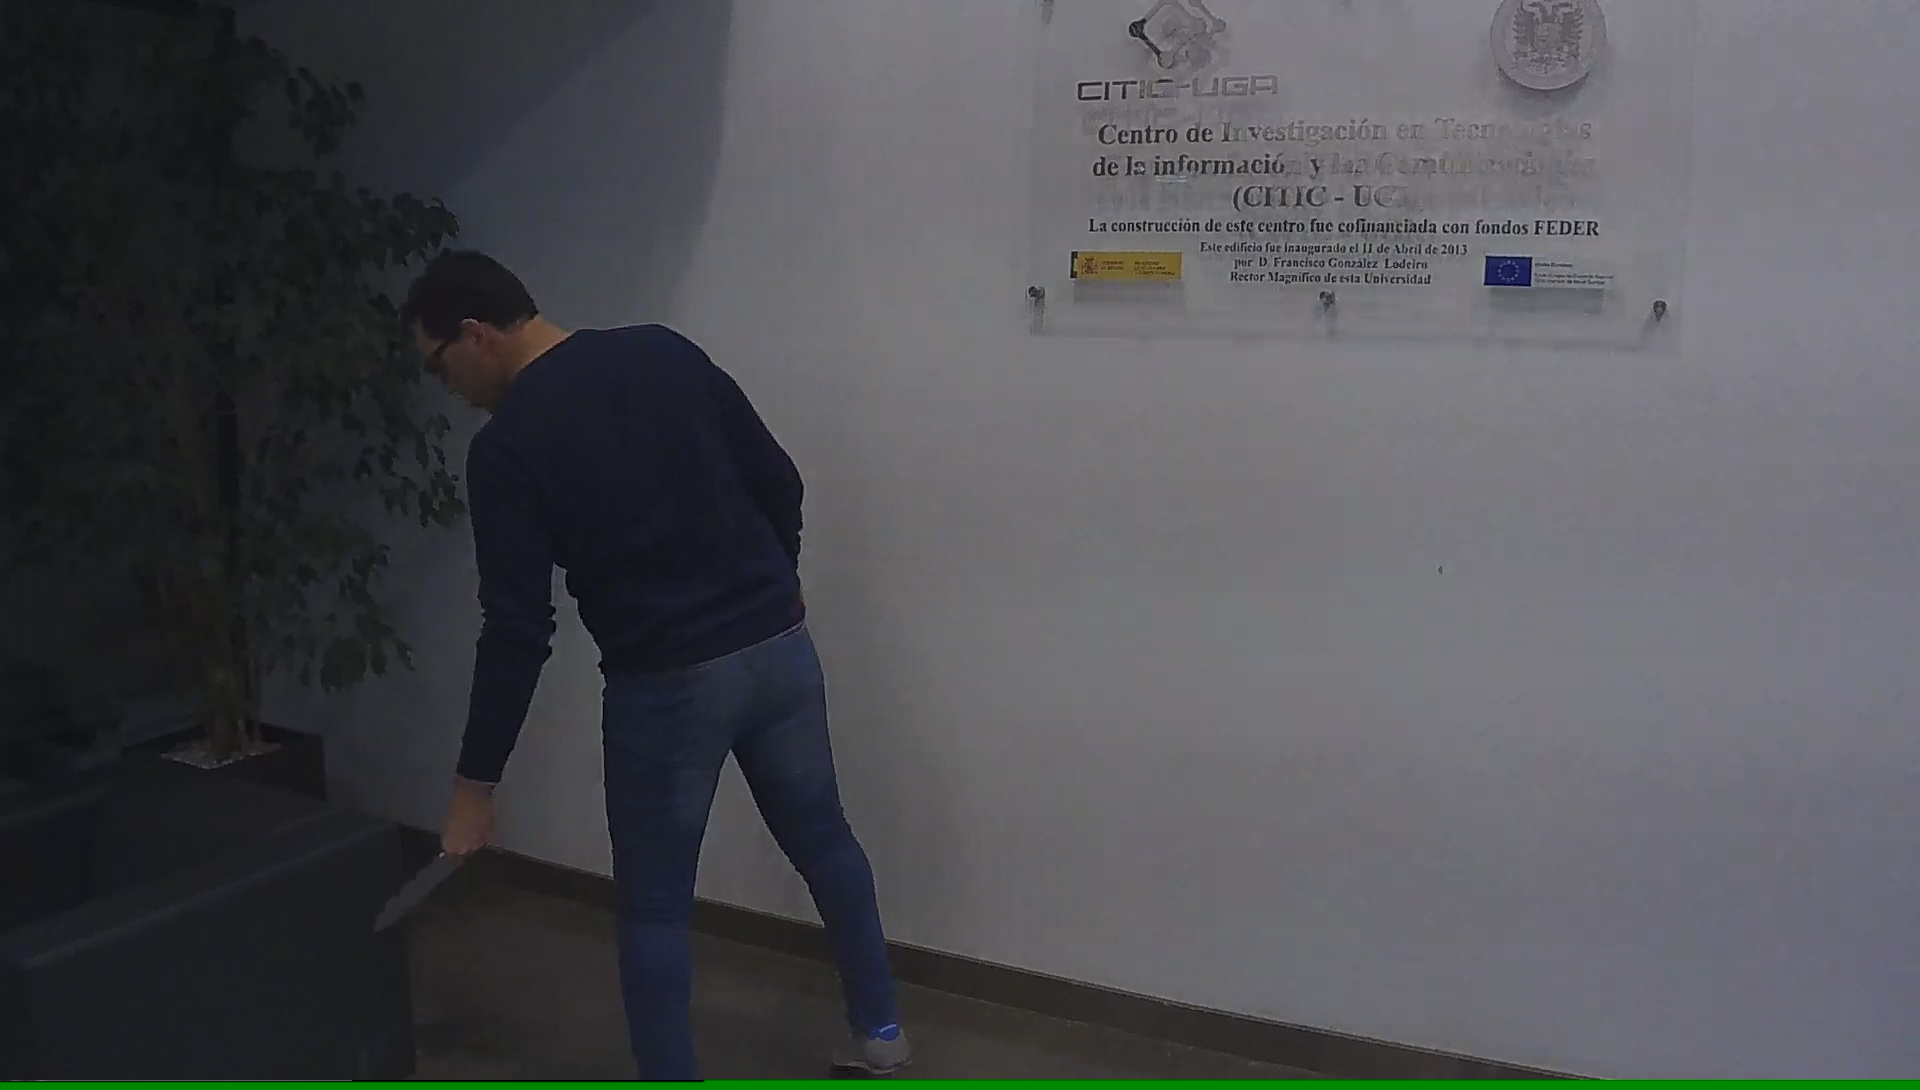knife: (365, 826, 498, 942)
